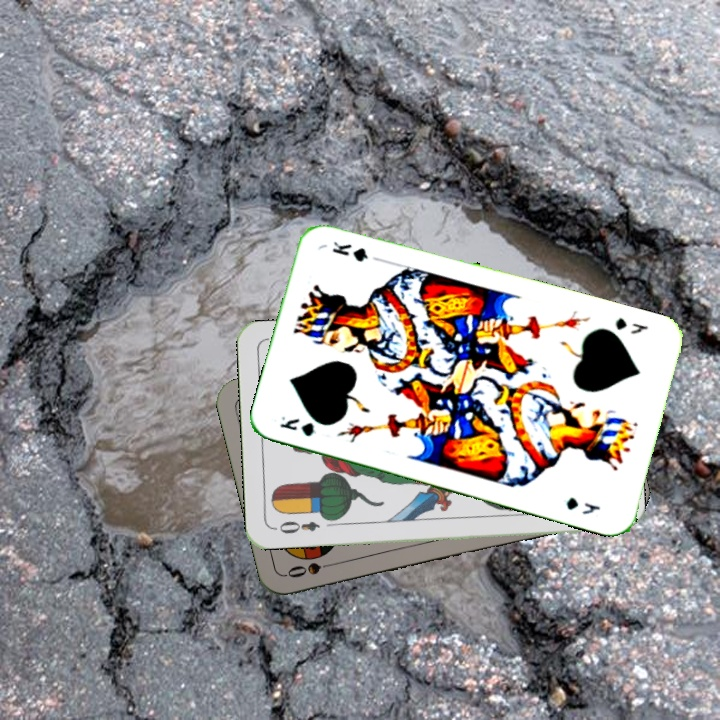EO: (270, 516, 322, 537)
GK: (276, 412, 317, 439), (611, 313, 651, 337)
SO: (283, 557, 342, 581)
